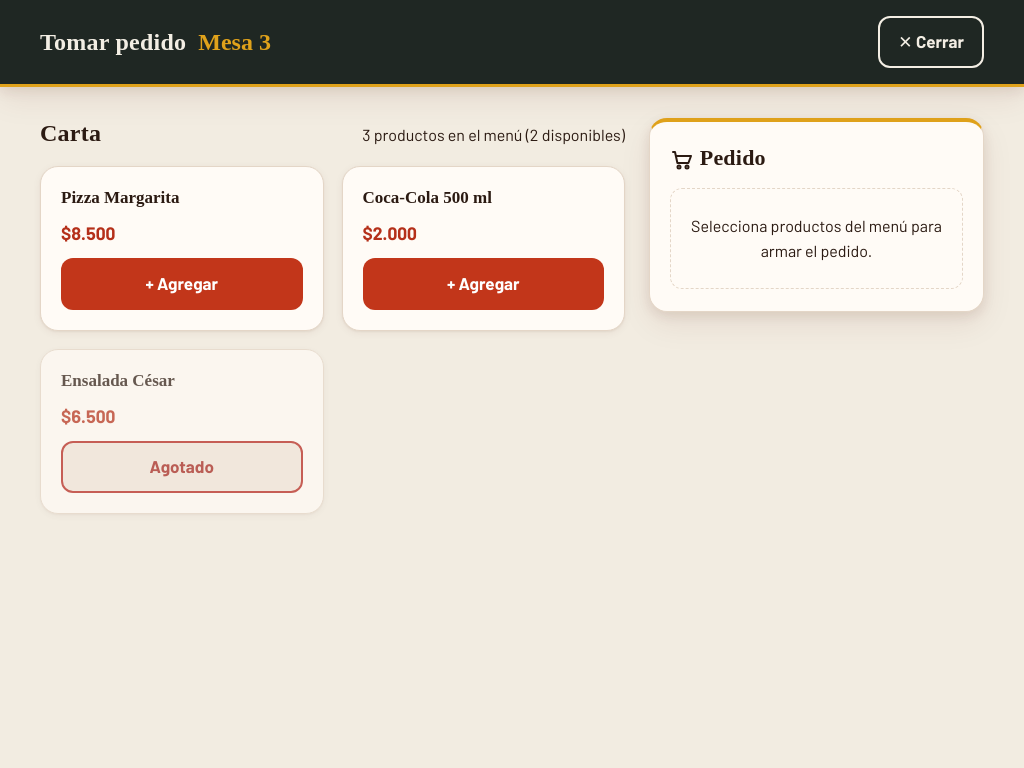
Test case: TomaPedido: carrito y total › agregar el mismo producto dos veces incrementa la cantidad
expect the text "Pizza Margarita" is shown: met, box left=61, top=187, right=180, bottom=209
Click the button with id "btn-agregar-1": (182, 284) left=61, top=258, right=302, bottom=310
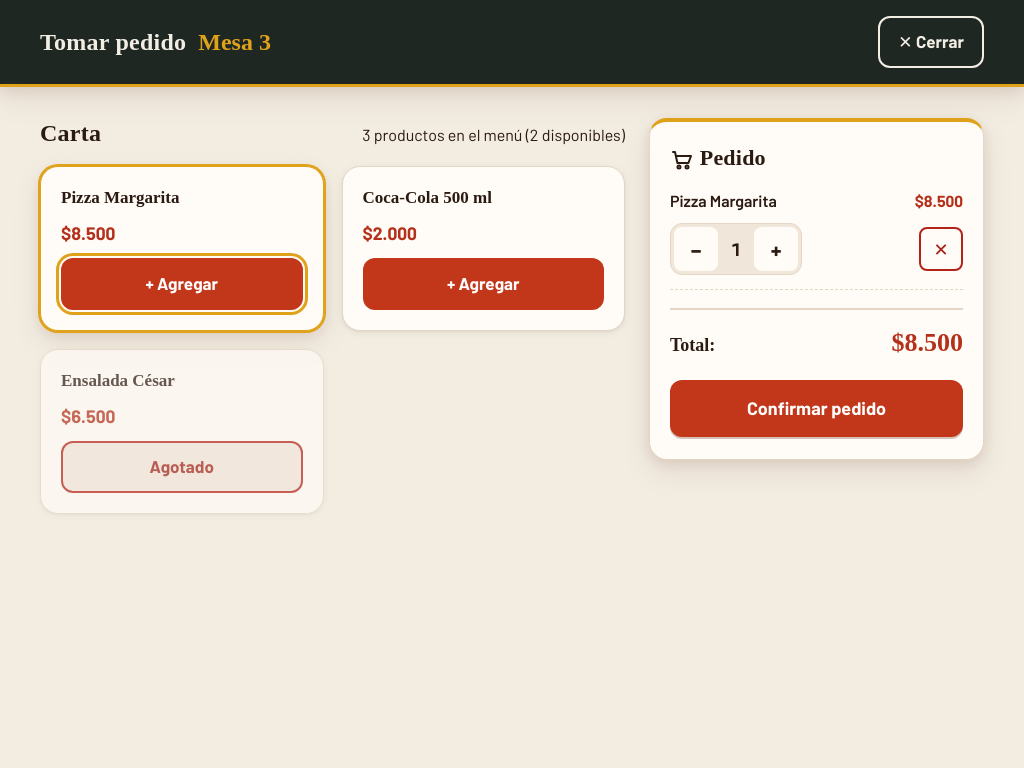
Click the button with id "btn-agregar-1": (182, 284) left=61, top=258, right=302, bottom=310
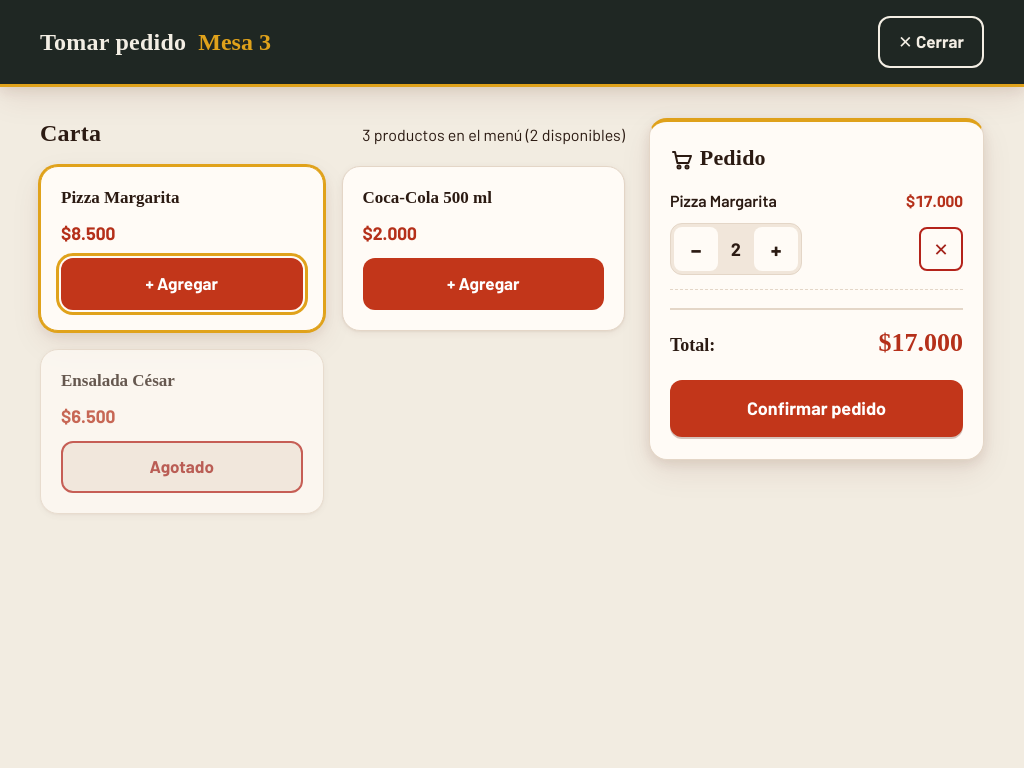
expect the text with id "cantidad-1" reads "2": met, box left=731, top=238, right=741, bottom=260
